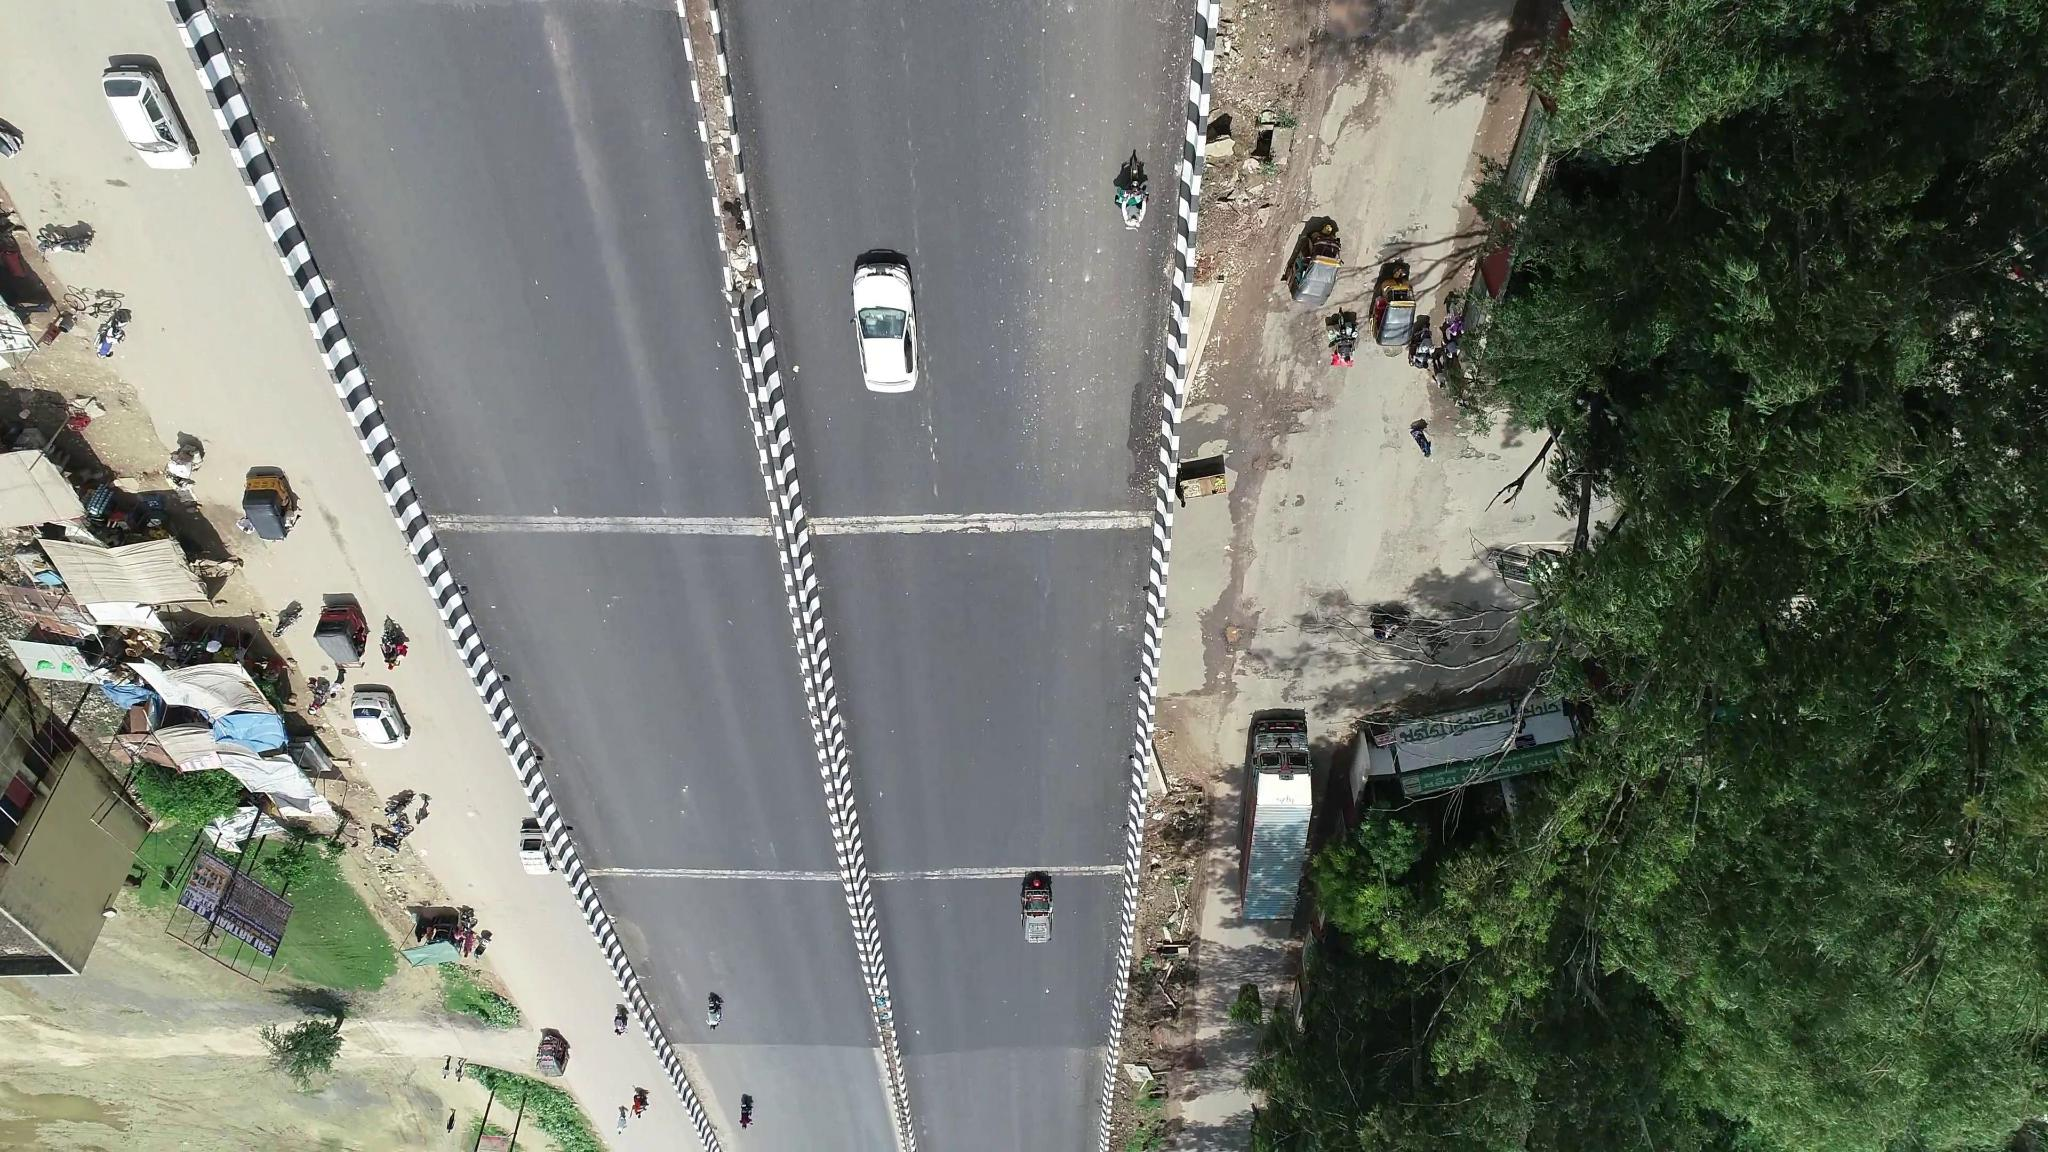Potholes: (1220, 613, 1255, 658)
